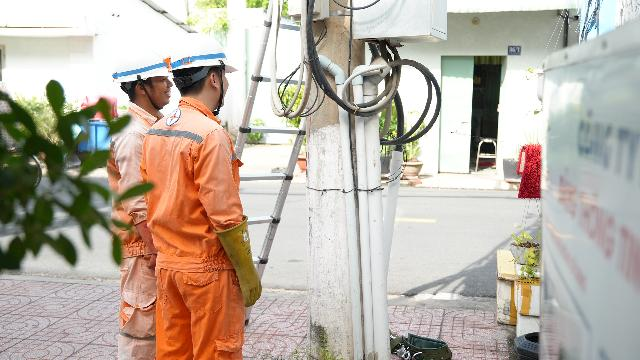gloves: (211, 210, 276, 309), (128, 217, 171, 273)
helmet: (161, 31, 240, 87), (107, 41, 183, 95)
